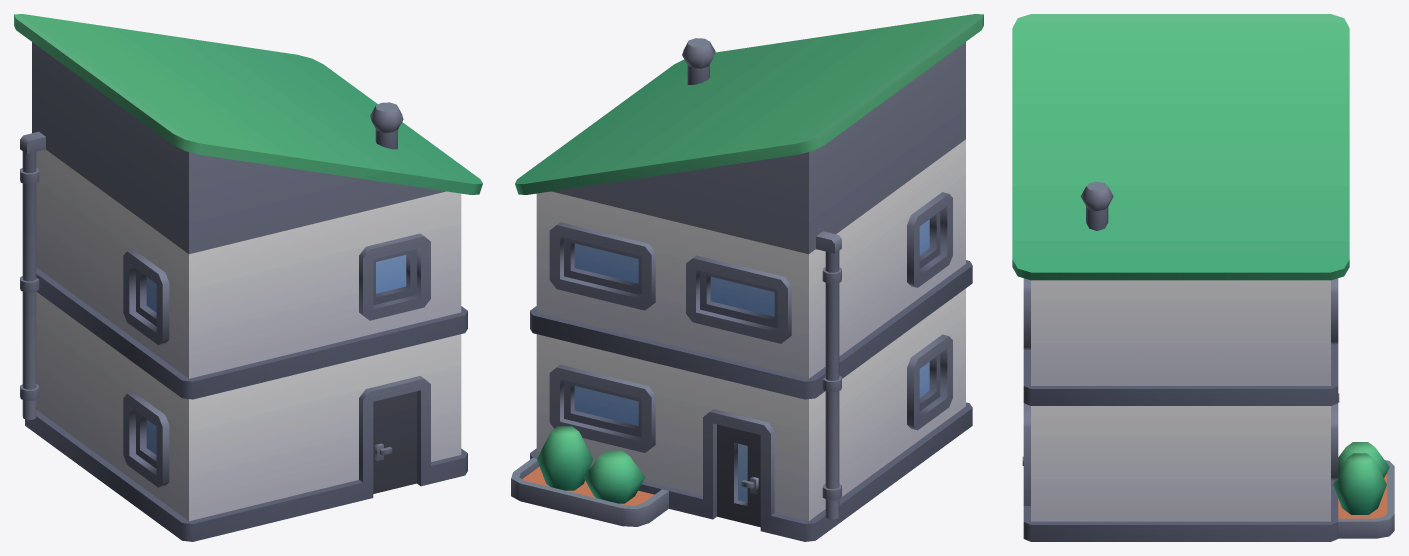
Rendered from k-city-kit-suburban-building-type-k.glb.
The picture shows the model from 3 angles, left to right: view 1: azimuth 30°, elevation 25°; view 2: azimuth 150°, elevation 25°; view 3: azimuth 270°, elevation 25°; orthographic projection. The views are drawn at different scales.
Parts seen in each view (by area): view 1: building-type-k; view 2: building-type-k; view 3: building-type-k.
Part boxes in pixels (x1,y1,x2,y2): building-type-k: (14,14,482,541); building-type-k: (511,14,983,541); building-type-k: (1012,14,1394,541).
Bounding box in the file's own units: 0.921 × 1.15 × 1.02.
1 material, 1 textured.
